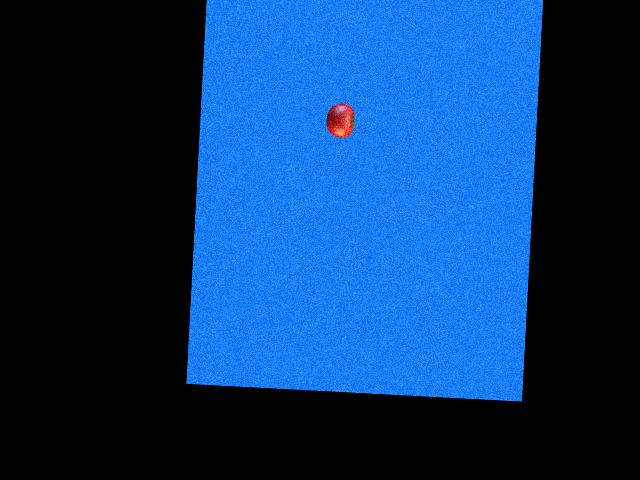tomato: (325, 102, 355, 138)
